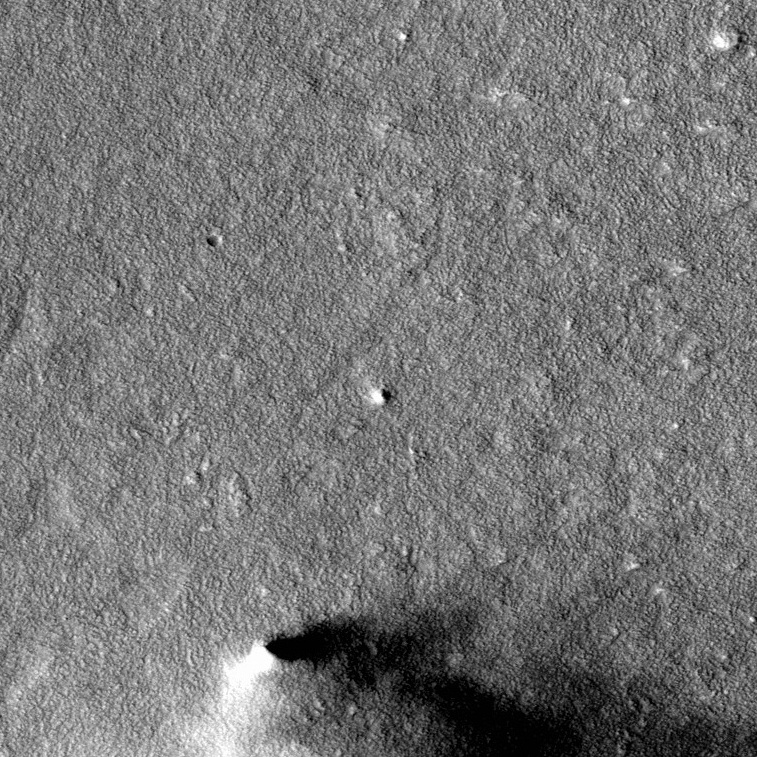dust_devil: (172, 596, 753, 757)
